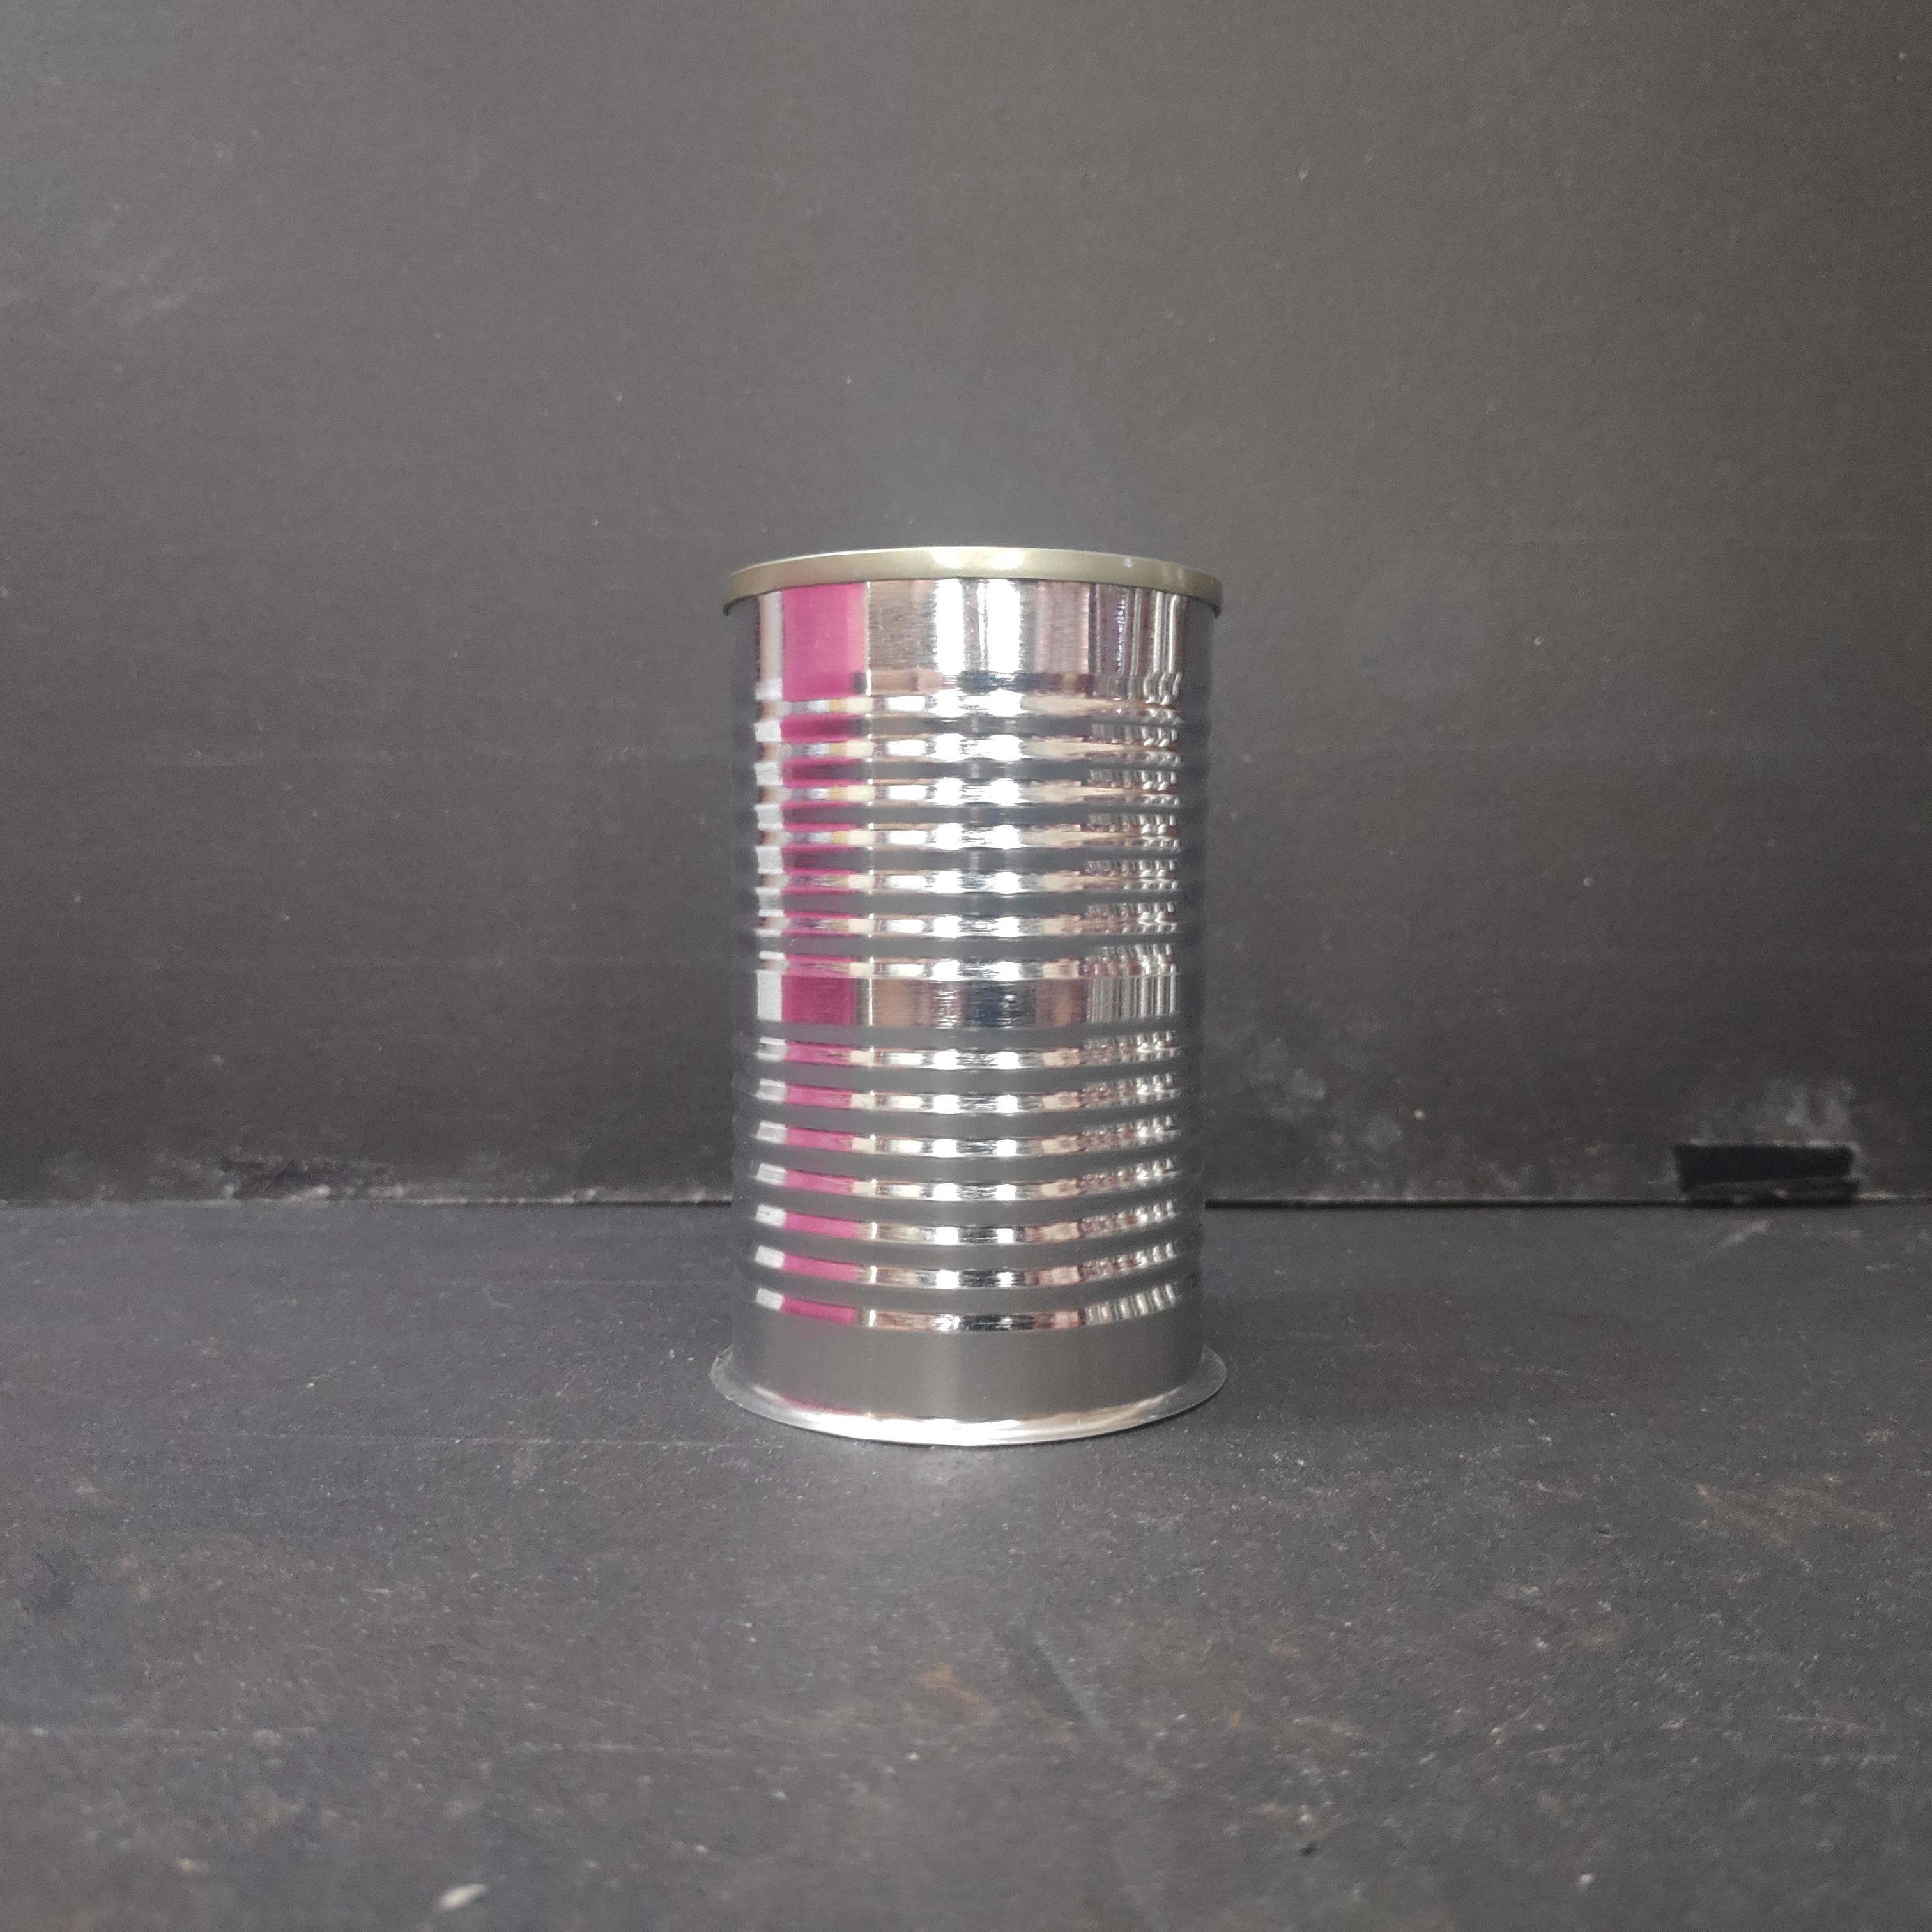No defect: (714, 537, 1236, 1451)
